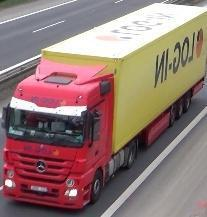Truck: (1, 4, 207, 210)
